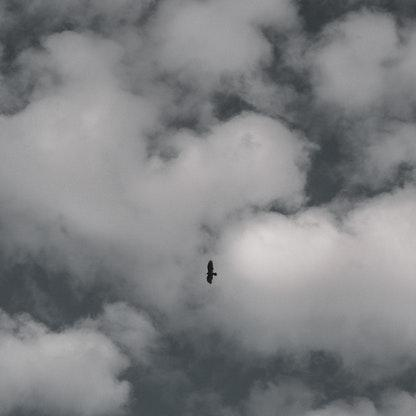bird: (195, 247, 230, 291)
